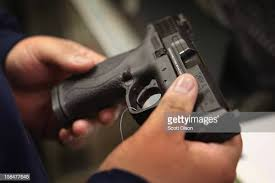Gun: (81, 17, 212, 118)
